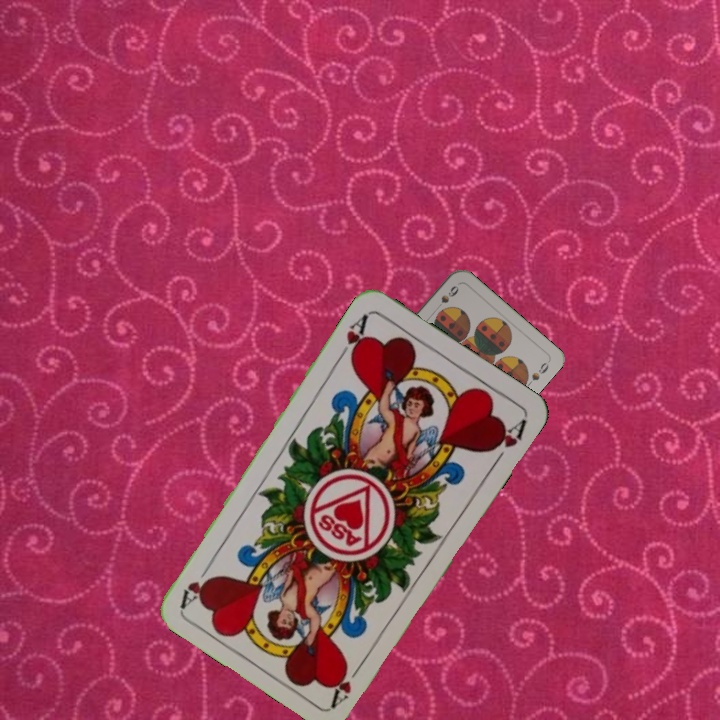HA: (327, 656, 368, 709), (334, 309, 371, 364)
S9: (430, 281, 462, 314)
